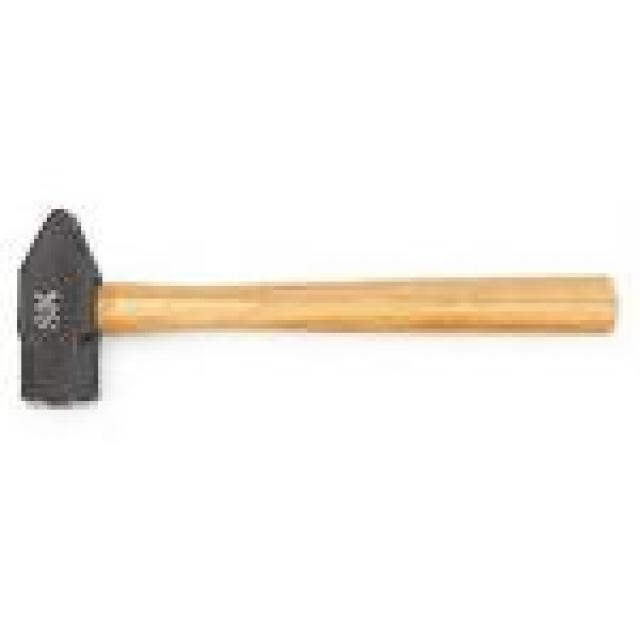hammer: (0, 199, 627, 414)
